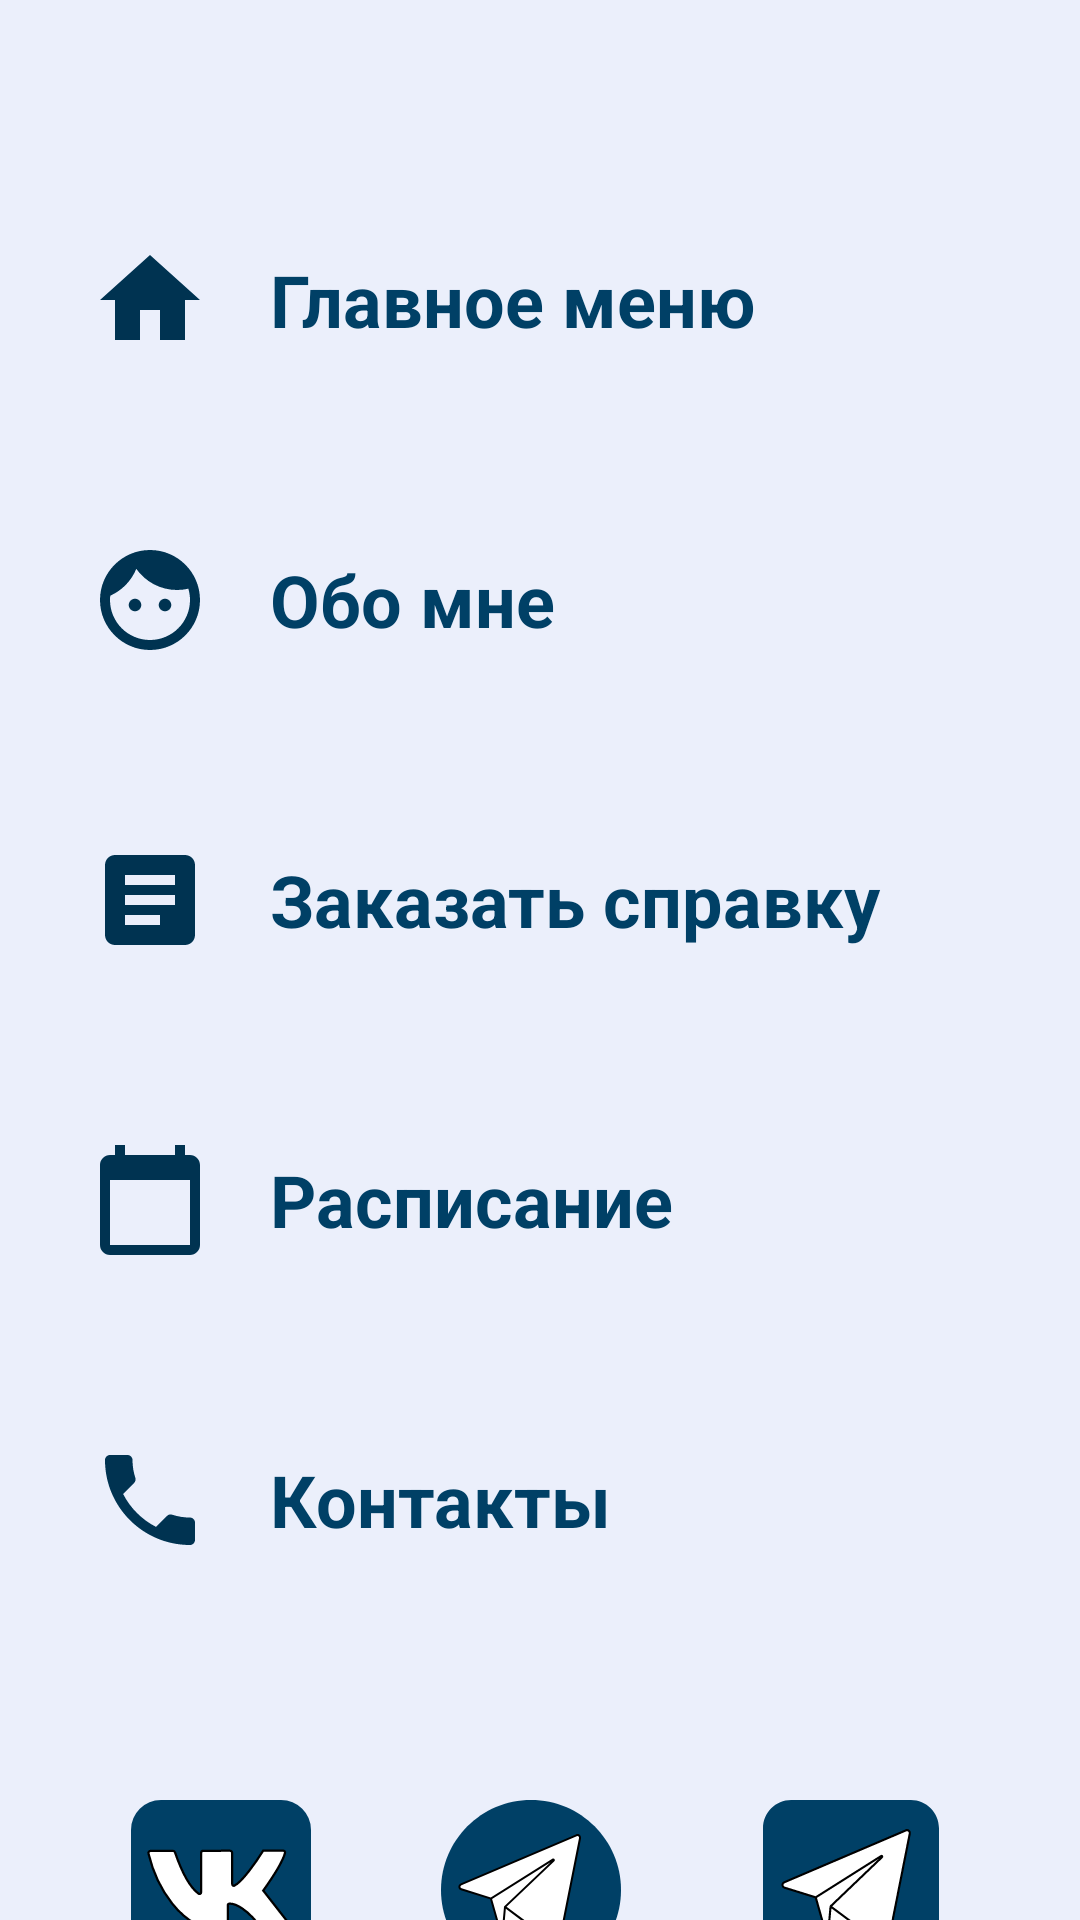

Icons on this 1080 x 1920 Android screen, each with its box as (x1, y1, x2, y2):
calendar: (100, 1145, 200, 1255)
contacts: (105, 1455, 195, 1545)
face profile: (100, 550, 200, 650)
main: (100, 255, 200, 340)
statement: (105, 855, 195, 945)
